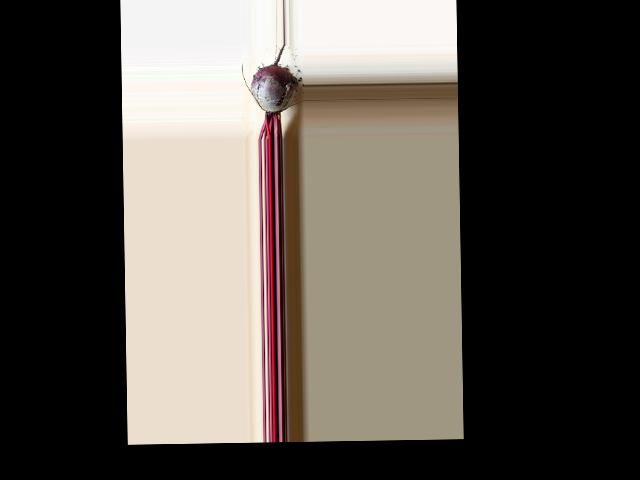beet: (241, 43, 298, 139)
